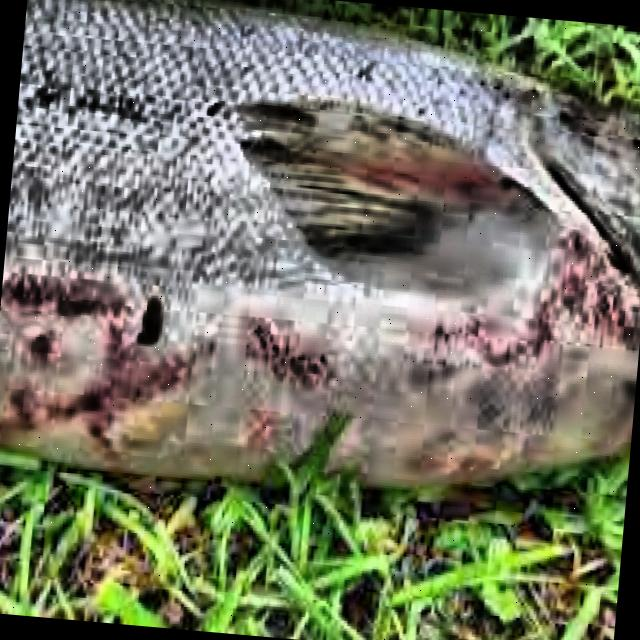mild_red: (0, 111, 640, 483)
